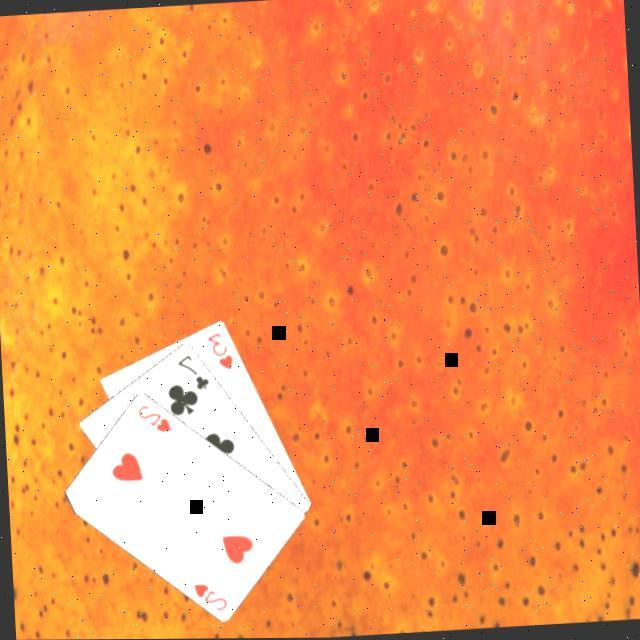2H: (189, 580, 231, 616), (134, 401, 174, 438)
3H: (202, 330, 236, 376)
7C: (173, 352, 212, 396)
